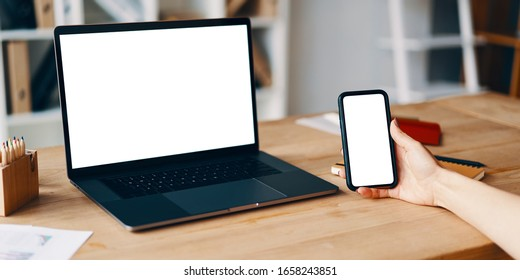Cell Phone: (339, 90, 399, 188)
